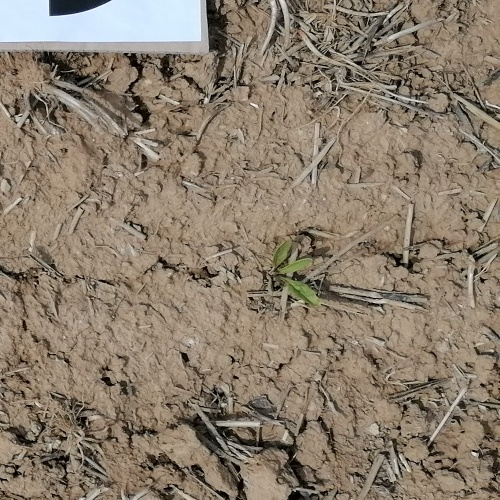beet: (271, 240, 319, 307)
